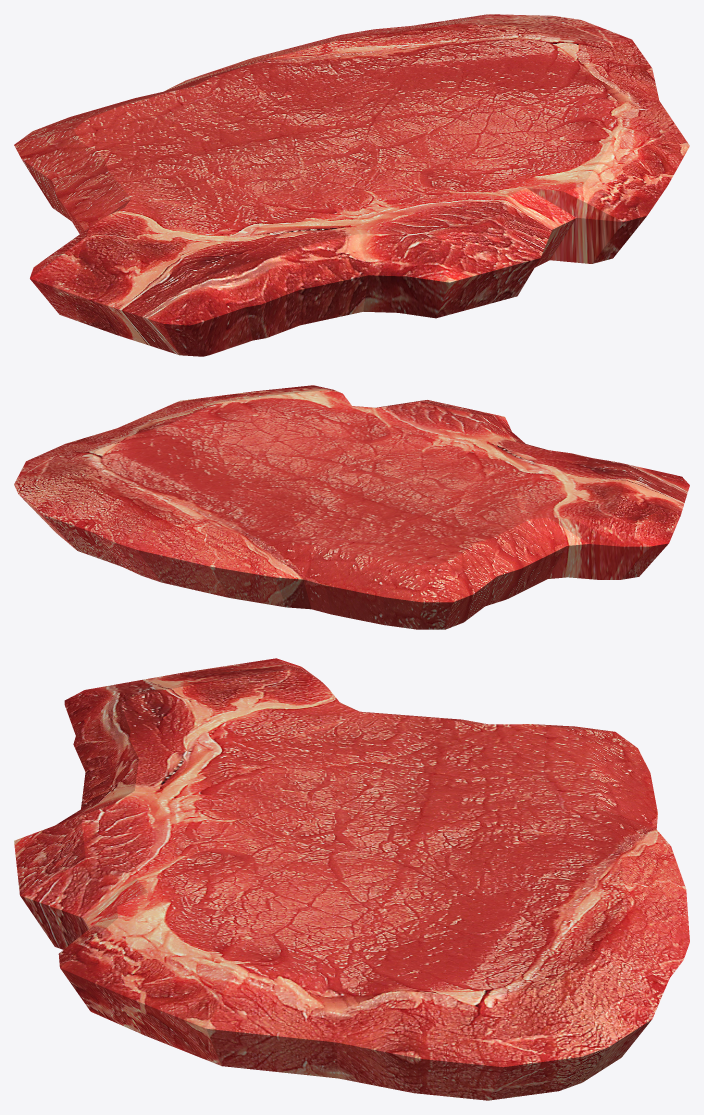
Rendered from rawmeat.obj.
The picture shows the model from 3 angles, top to bottom: view 1: azimuth 30°, elevation 25°; view 2: azimuth 150°, elevation 25°; view 3: azimuth 270°, elevation 25°; orthographic projection. The views are drawn at different scales.
Parts seen in each view (by area): view 1: rawmeat; view 2: rawmeat; view 3: rawmeat.
Boxes of the visible parts, left/top/right/bottom form: rawmeat: left=14, top=14, right=689, bottom=356; rawmeat: left=14, top=385, right=689, bottom=629; rawmeat: left=14, top=658, right=689, bottom=1100.
Bounding box in the file's own units: 3.3 × 0.3103 × 2.31.
